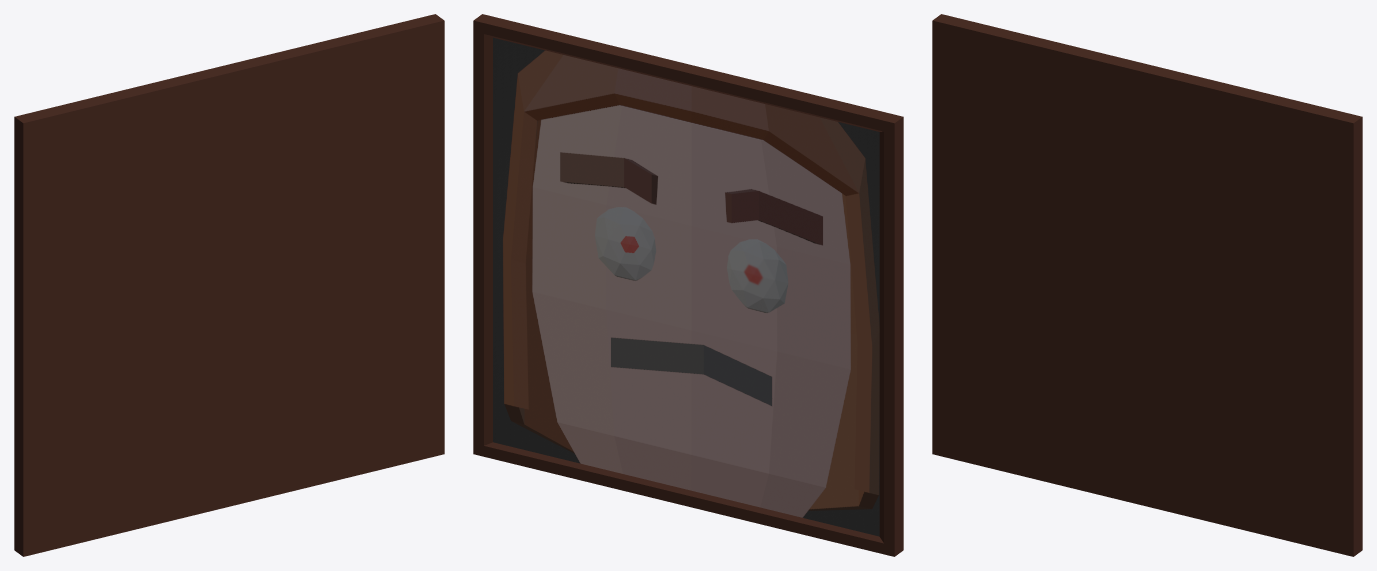
Rendered from Painting5.fbx.
3 renders of one model, left to right at view 1: azimuth 30°, elevation 25°; view 2: azimuth 150°, elevation 25°; view 3: azimuth 330°, elevation 25°, orthographic.
Parts seen in each view (by area): view 1: Cube.006; view 2: Cube.006; view 3: Cube.006.
Boxes of the visible parts, x1,y1,x2,y2 form: Cube.006: [14, 14, 444, 556]; Cube.006: [473, 14, 903, 556]; Cube.006: [932, 14, 1362, 556].
Size of the model in its own units: 436 by 429 by 16.04.
Materials: 2 (1 with a texture image).
